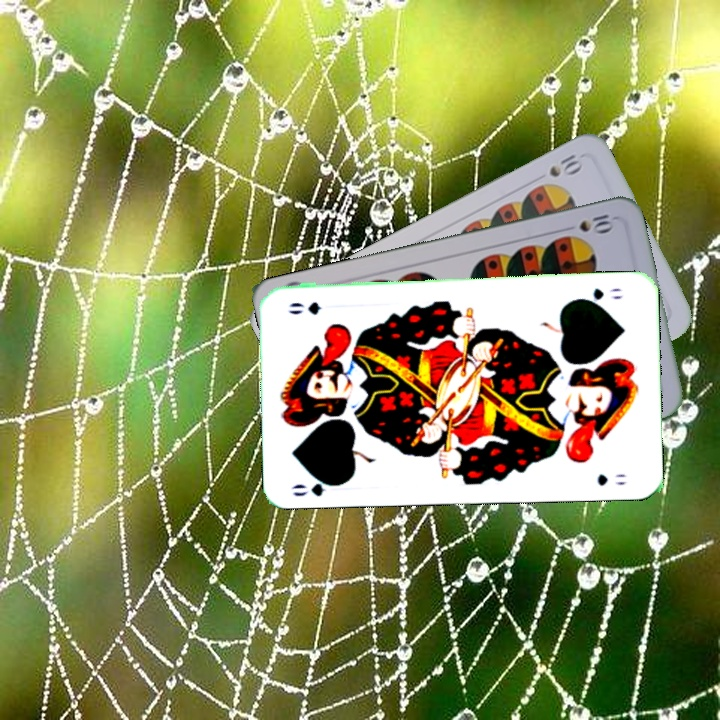GO: (288, 472, 347, 499), (573, 284, 624, 306)
S10: (559, 210, 617, 235), (545, 149, 586, 180)
